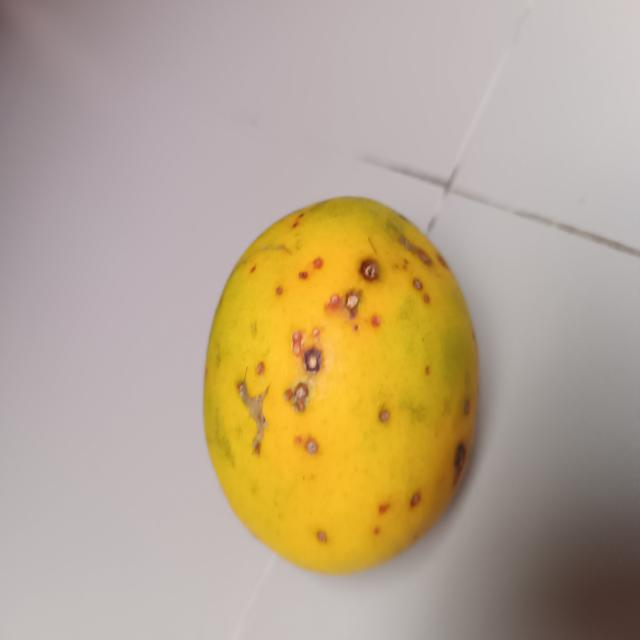Ripe orange: (198, 181, 488, 578)
